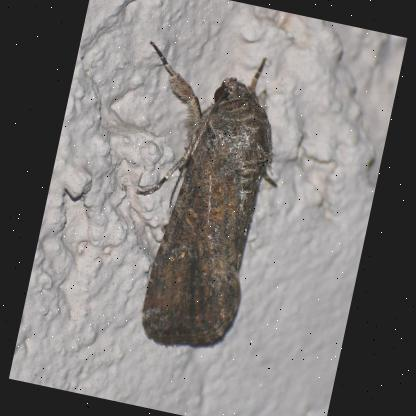Fall Armyworm Moth: (84, 30, 306, 366)
